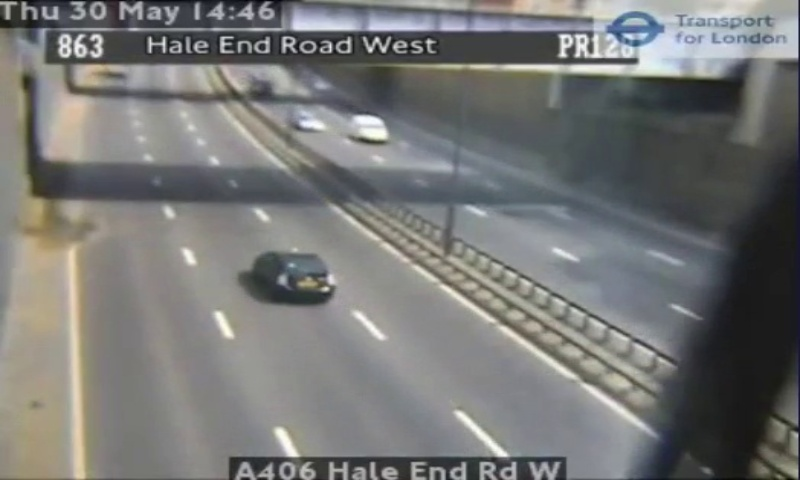car: (256, 252, 334, 301)
